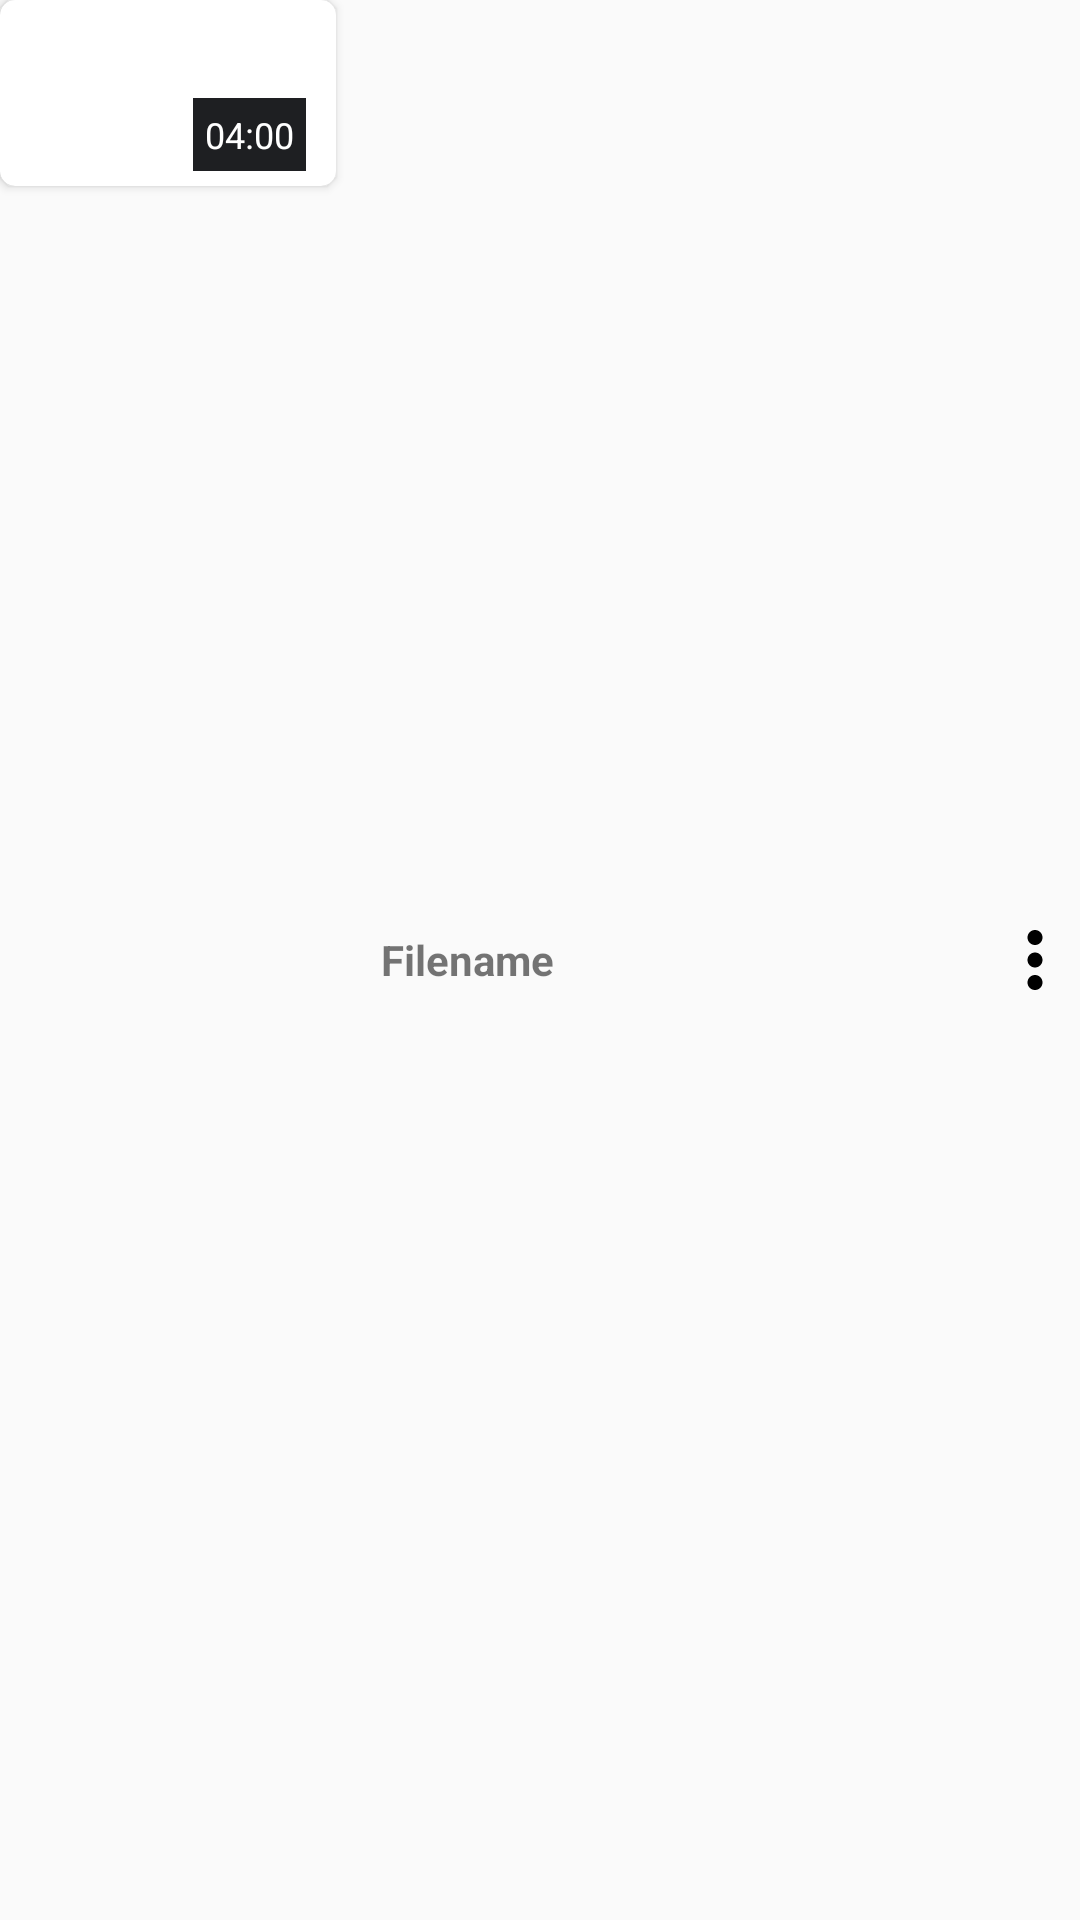

Icon bounding boxes for this 1080 x 1920 phone screenshot, format {"x1": x1, "y1": y1, "x2": x2, "y2": y2}:
more: {"x1": 1027, "y1": 930, "x2": 1043, "y2": 990}
